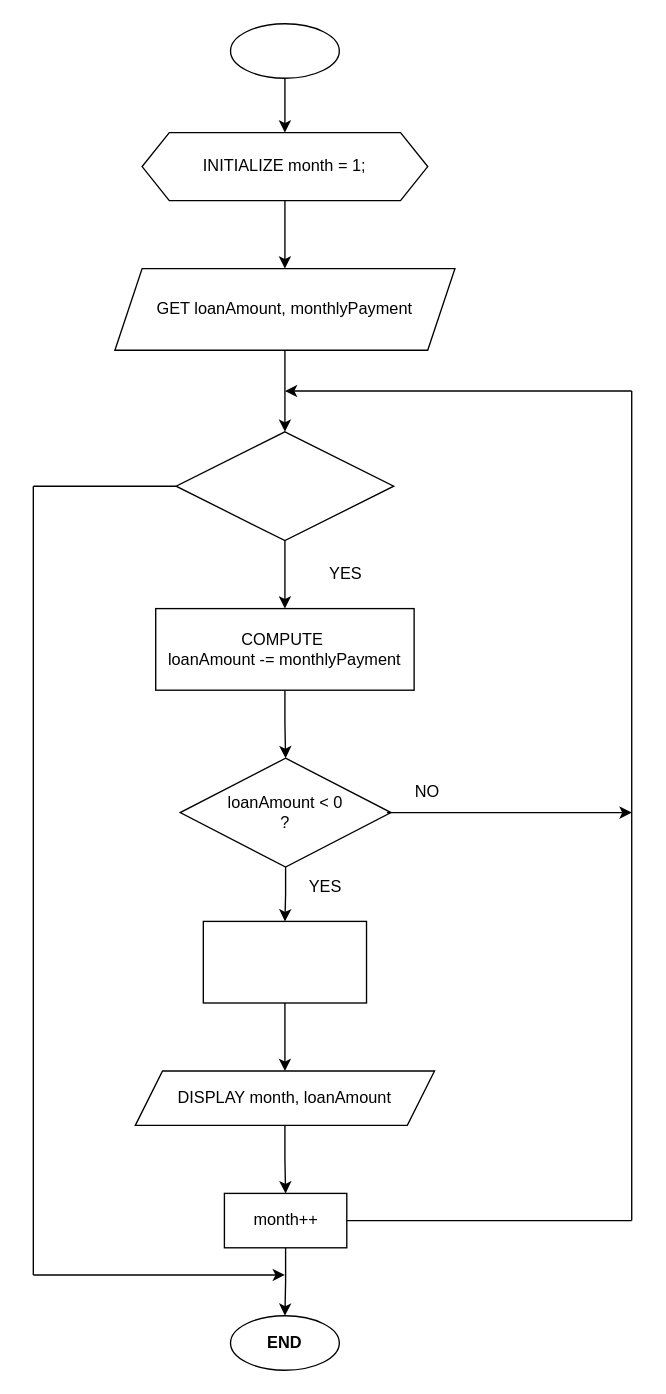
Image size: 666x1394. Some labels were removed from this diagram. The shapes that lost their labels are listed below. From the top down, each one's centre as x and y in pixels, then its label:
the point at 284,50: START
the point at 284,485: loanAmount > 0 ?
the point at 284,961: SET loanAmount = 0;
